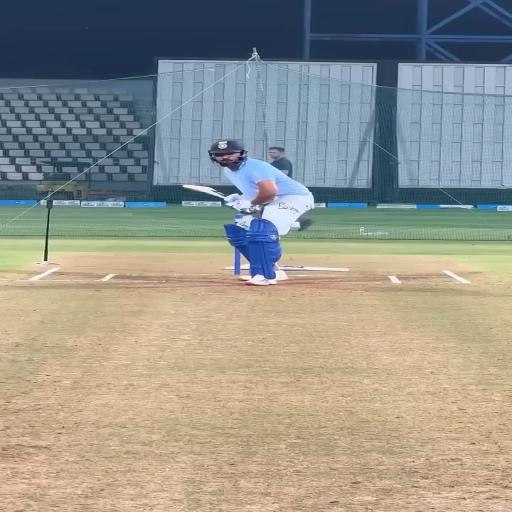Cricket bat: (183, 184, 224, 199)
